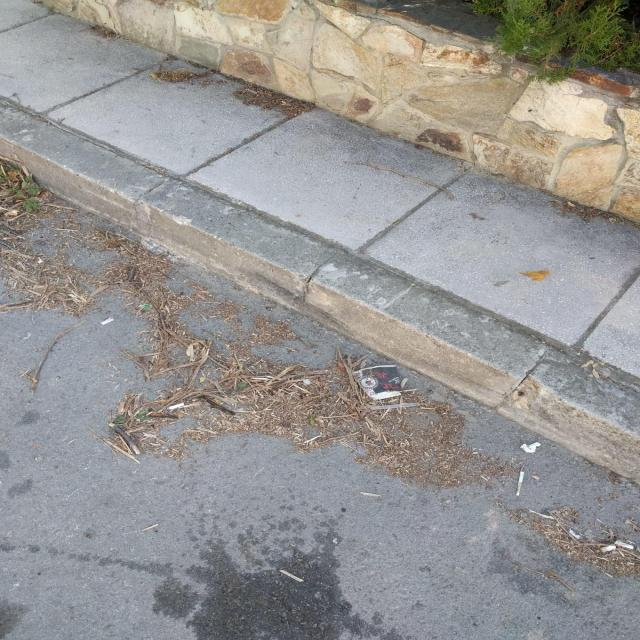litter: (357, 364, 403, 400)
